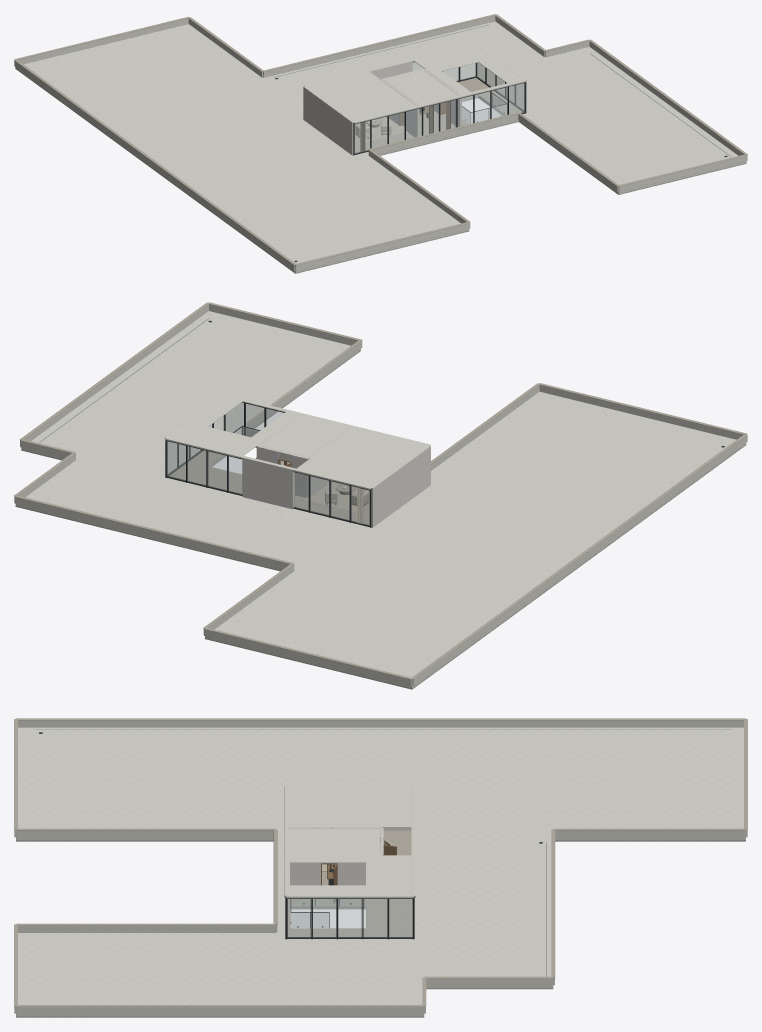
3 renders of one model, top to bottom at view 1: azimuth 30°, elevation 25°; view 2: azimuth 150°, elevation 25°; view 3: azimuth 270°, elevation 25°, orthographic. The views are drawn at different scales.
Parts seen in each view (by area): view 1: 3F__Structure, 3F__Details, 3F__Windows, 3F__Ceilings, 3F__BakedFloors, 3F__Furniture; view 2: 3F__Structure, 3F__Details, 3F__Windows, 3F__Ceilings, 3F__BakedFloors, 3F__Furniture; view 3: 3F__Structure, 3F__Details, 3F__Ceilings, 3F__Windows, 3F__BakedFloors.
Part boxes in pixels (x1,y1,x2,y2): 3F__Structure: (14, 16, 747, 273); 3F__Details: (14, 14, 747, 273); 3F__Windows: (304, 44, 526, 155); 3F__Ceilings: (307, 45, 522, 120); 3F__BakedFloors: (355, 78, 522, 152); 3F__Furniture: (355, 101, 450, 152); 3F__Structure: (14, 304, 747, 689); 3F__Details: (14, 302, 747, 688); 3F__Windows: (164, 394, 430, 527); 3F__Ceilings: (169, 396, 425, 486); 3F__BakedFloors: (169, 450, 368, 524); 3F__Furniture: (303, 481, 368, 523); 3F__Structure: (14, 720, 747, 1017); 3F__Details: (14, 718, 747, 1017); 3F__Ceilings: (288, 787, 411, 894); 3F__Windows: (284, 785, 415, 939); 3F__BakedFloors: (287, 830, 412, 936).
Bounding box in the file's own units: 41.21 × 3.16 × 44.3.
Materials: 19 (6 with a texture image).
